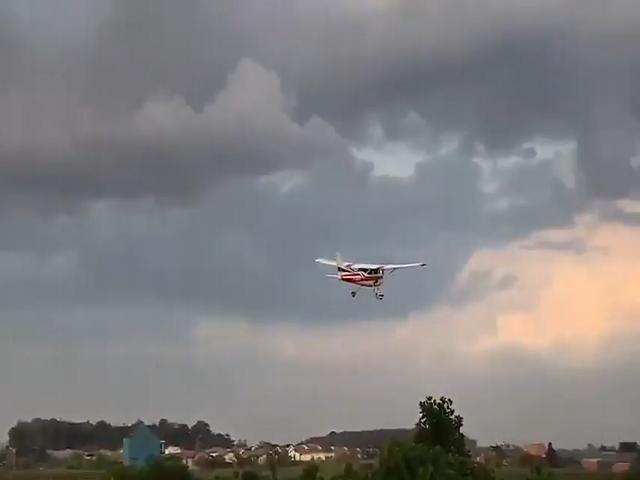plane: (316, 252, 427, 300)
